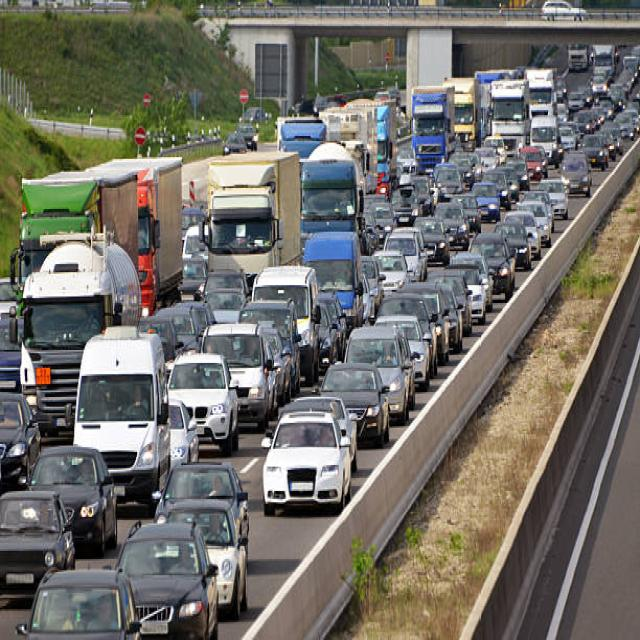Car: (114, 518, 219, 638), (154, 498, 248, 620), (24, 444, 117, 556), (260, 410, 352, 515), (15, 567, 141, 638), (152, 460, 249, 551), (0, 489, 75, 602), (168, 352, 240, 455), (314, 362, 390, 448), (278, 396, 359, 472), (0, 390, 41, 491), (167, 398, 199, 470), (540, 0, 586, 21), (222, 131, 246, 154)
Truck: (18, 227, 141, 437), (202, 151, 301, 290), (411, 84, 455, 174)
